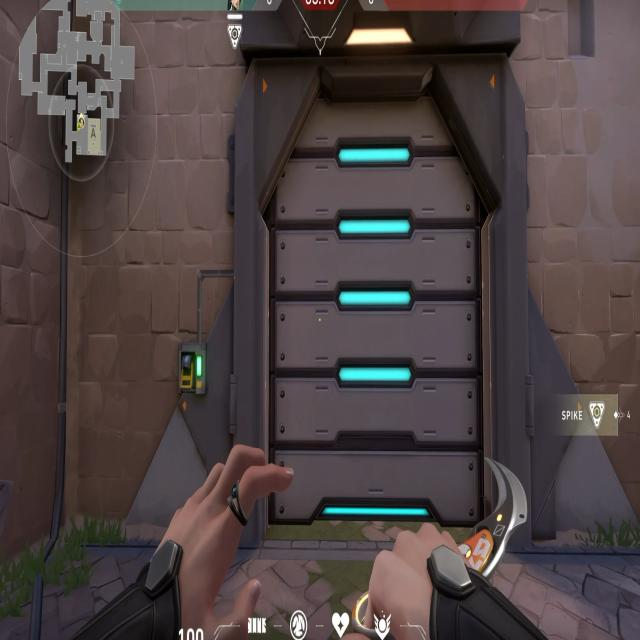A_Door: (237, 40, 523, 542)
